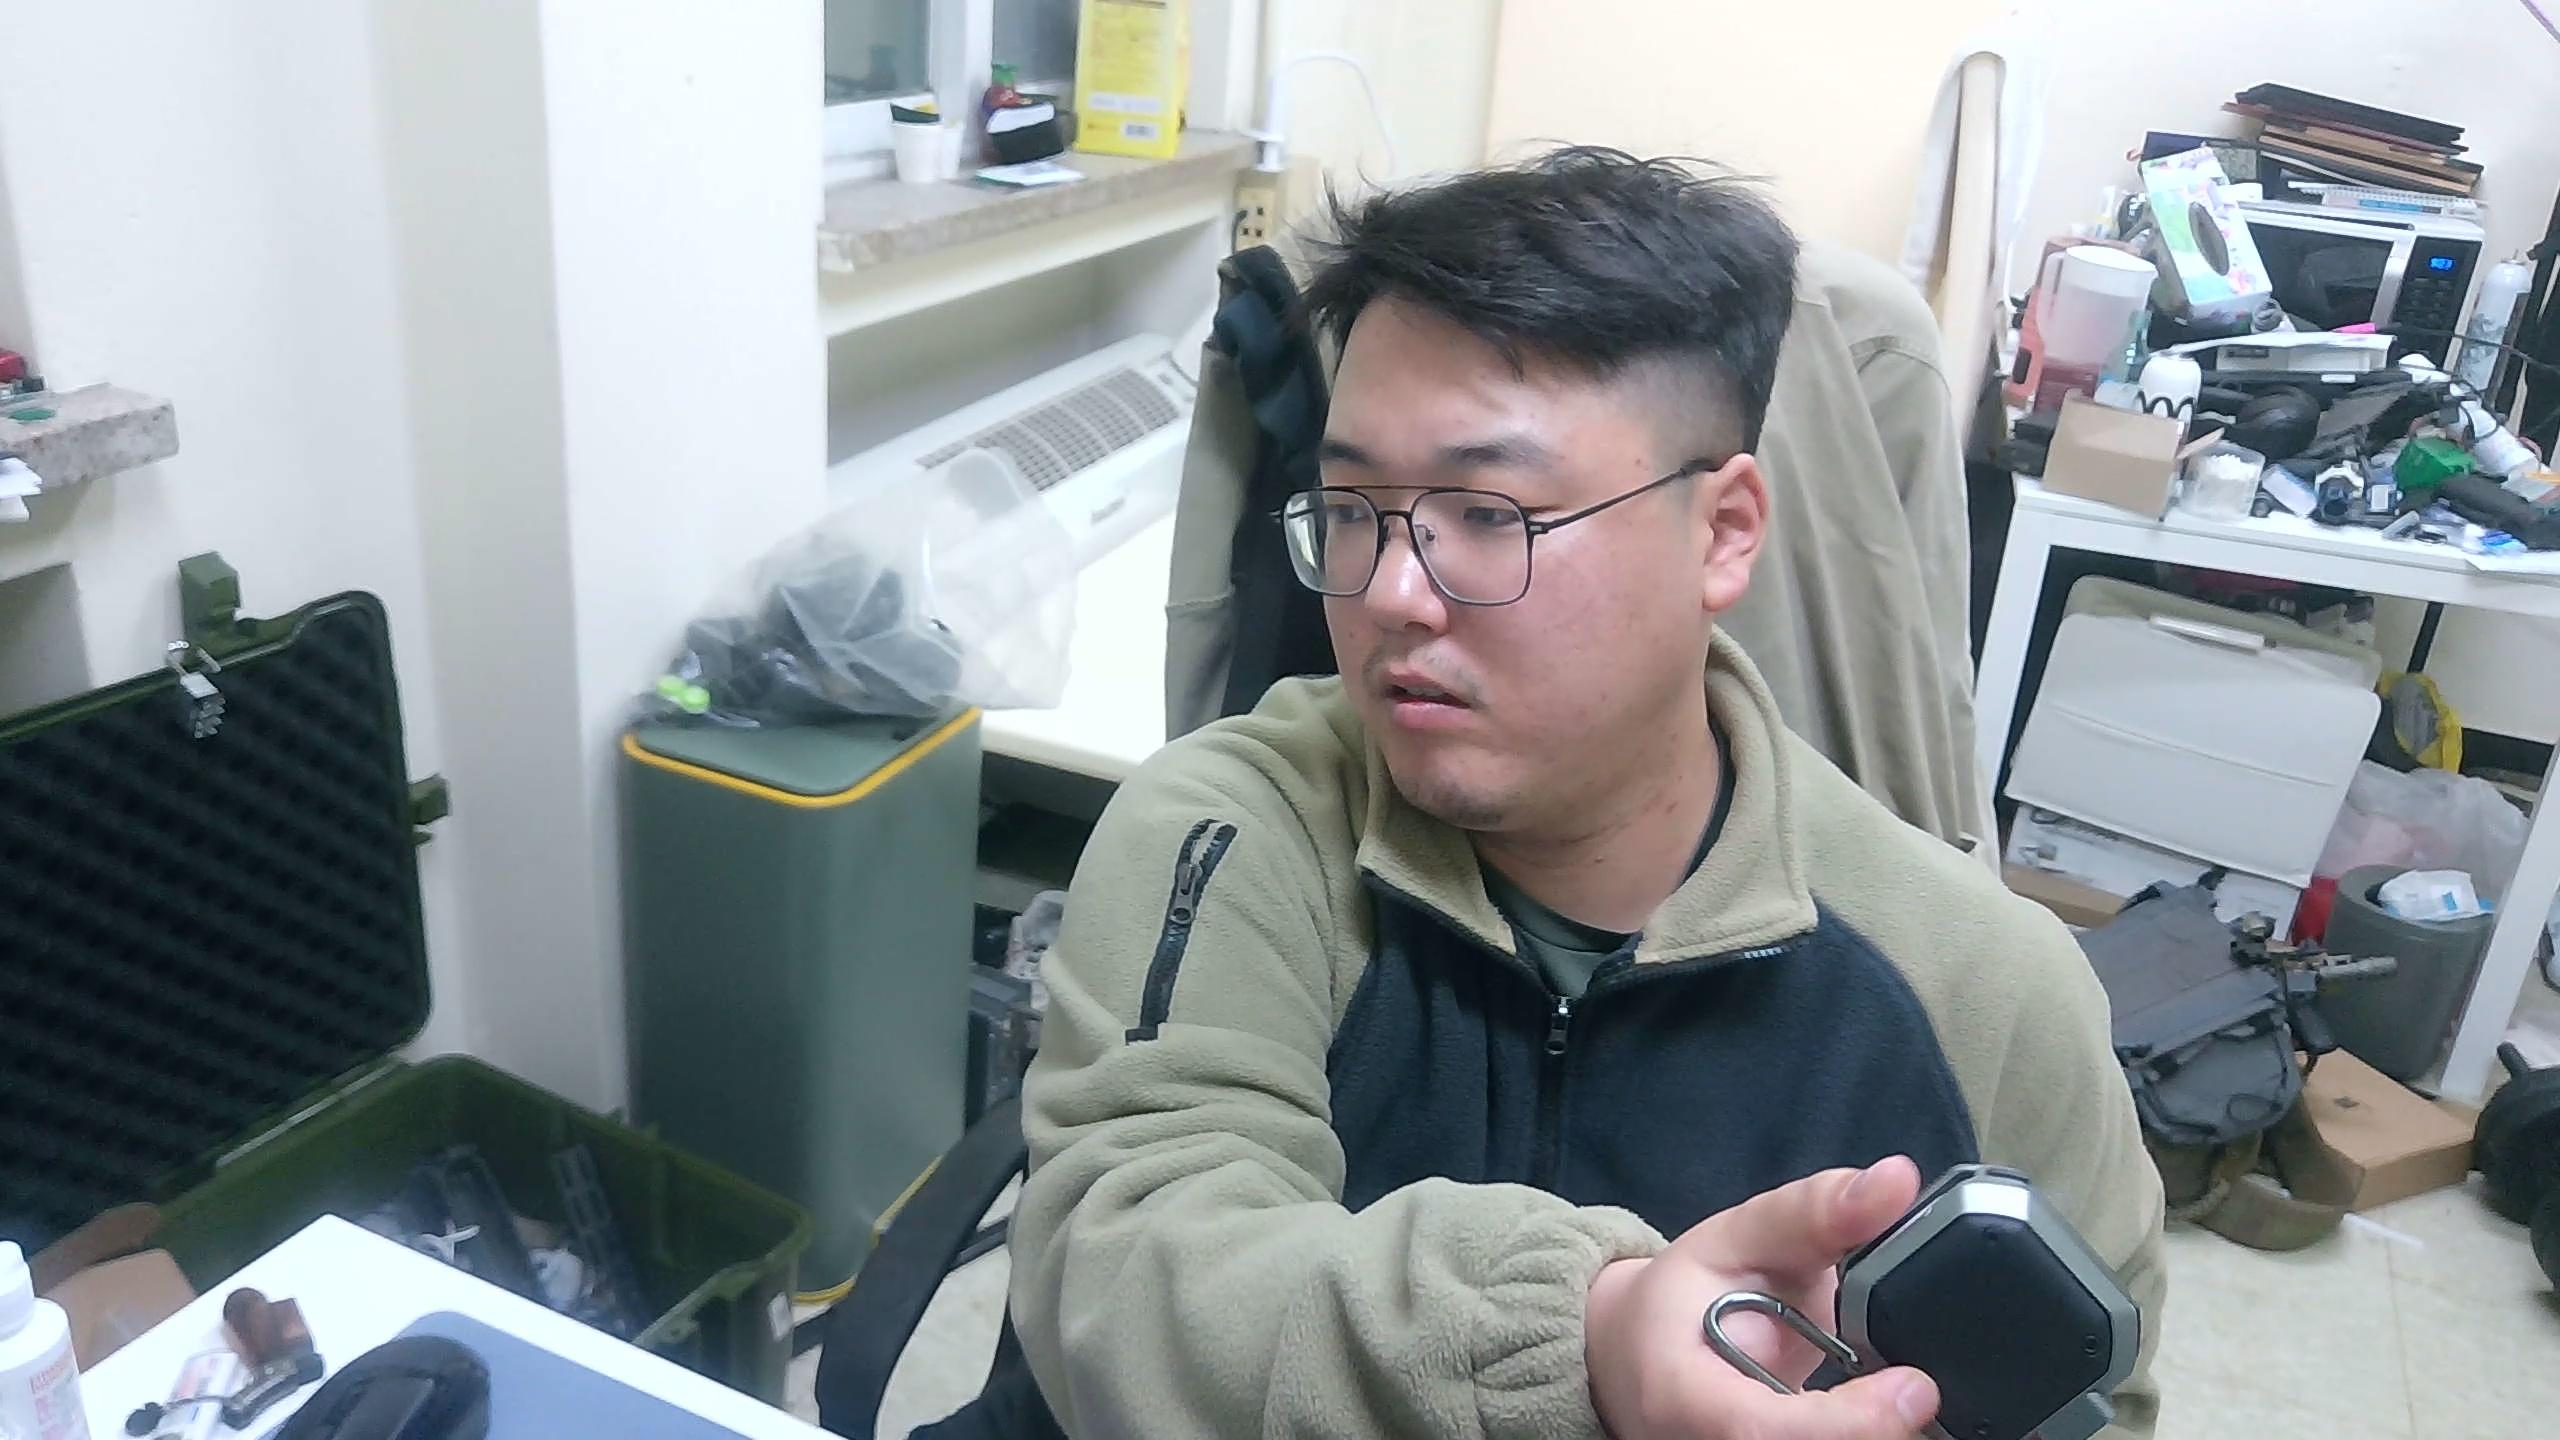blue_pliers: (1702, 1159, 2147, 1438)
